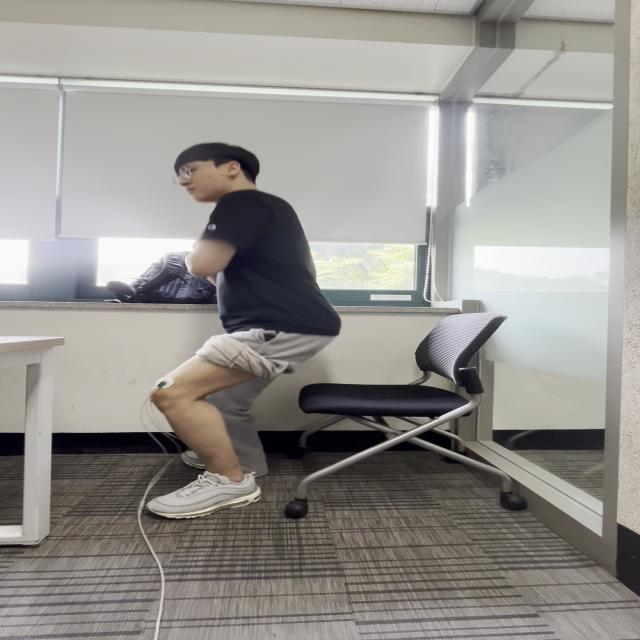stand: (136, 327, 292, 520), (186, 200, 326, 382), (217, 308, 357, 403)
